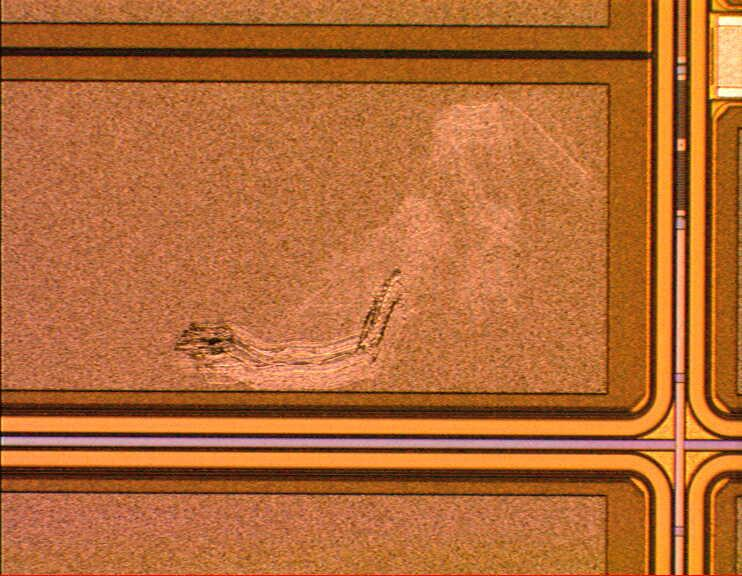SCRATCH: (157, 92, 613, 397)
